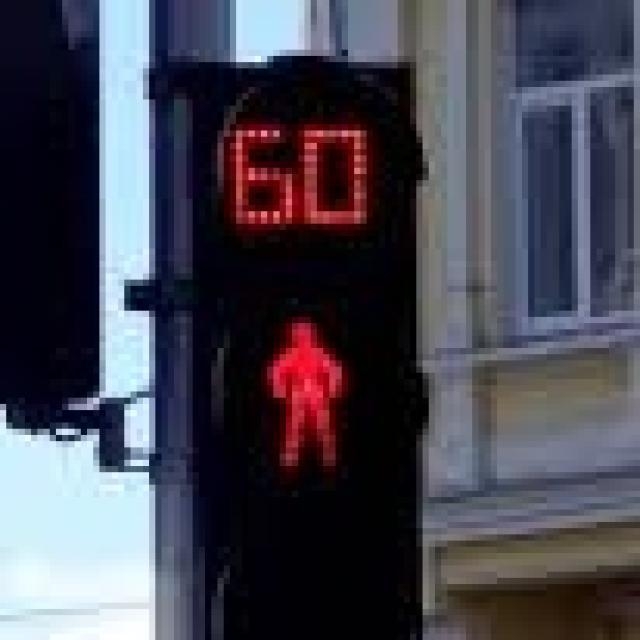red-crossing: (212, 286, 386, 478)
